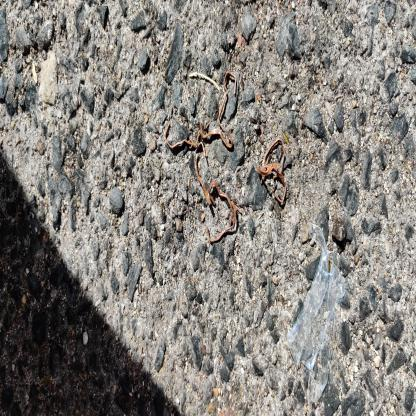plastik: (287, 222, 346, 404)
